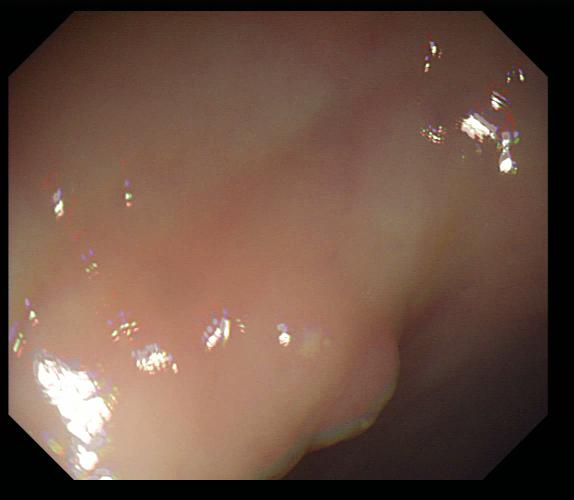polyp: (309, 329, 401, 453), (293, 322, 336, 367)
